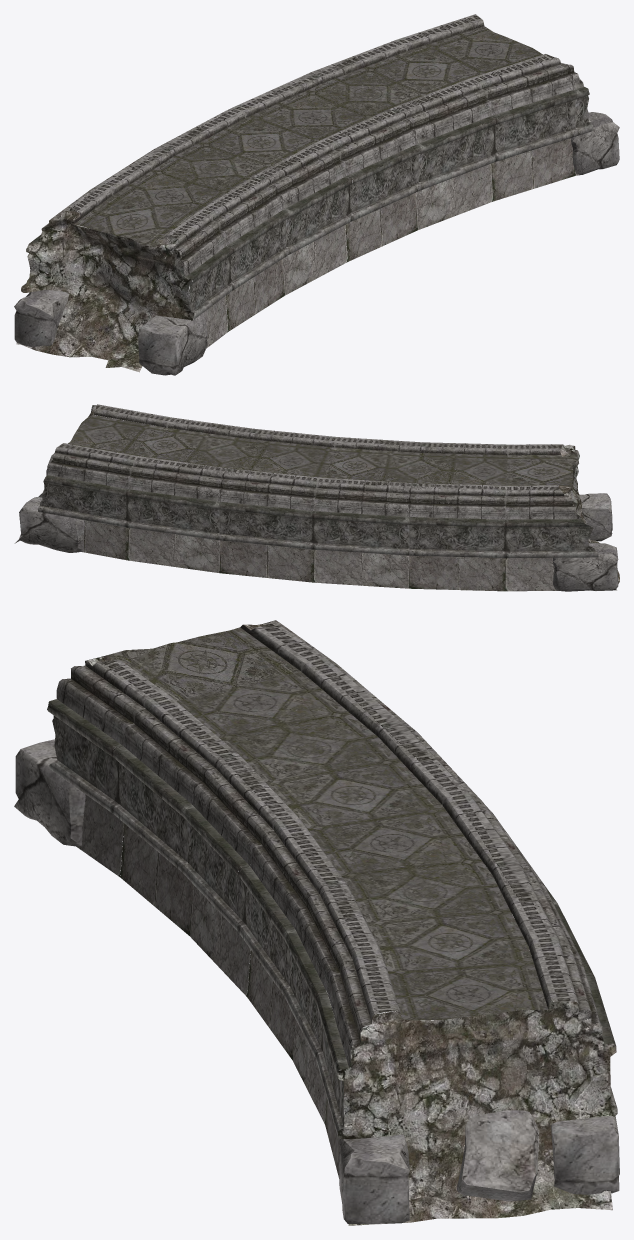
The model's file is eso_ss4_ruins7-transformed.glb.
3 views of the same model, one above another, from view 1: azimuth 30°, elevation 25°; view 2: azimuth 150°, elevation 25°; view 3: azimuth 270°, elevation 25° (orthographic). The views are drawn at different scales.
Visible parts, largest first — view 1: default; view 2: default; view 3: default.
Part boxes in pixels (box(x1,y1,x2,y2)): default: box(14, 14, 619, 375); default: box(14, 404, 619, 591); default: box(14, 620, 619, 1225).
Bounding box in the file's own units: 22.86 × 4.12 × 12.28.
5 materials, 5 textured.
